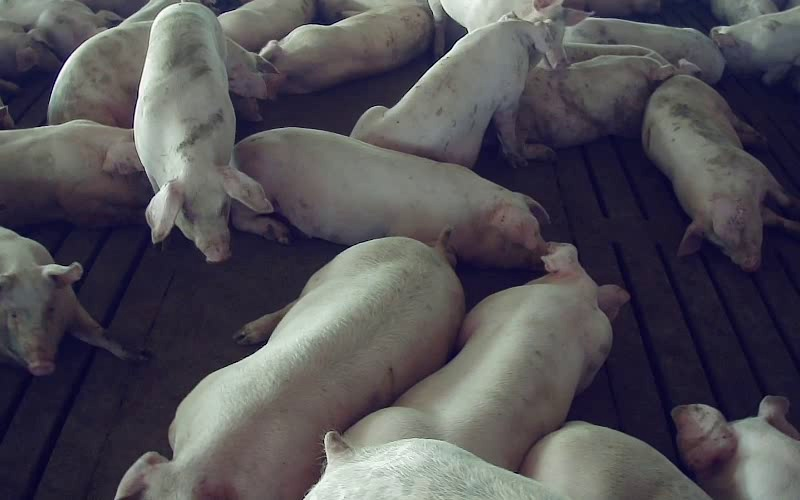pig: (116, 237, 463, 499), (343, 244, 628, 469), (231, 128, 546, 267), (135, 3, 272, 261), (642, 75, 799, 270), (305, 432, 562, 499), (0, 120, 152, 226), (261, 3, 432, 93), (520, 421, 710, 499), (518, 55, 675, 147), (671, 396, 799, 499), (48, 21, 152, 127), (565, 17, 724, 84), (710, 6, 799, 84)
